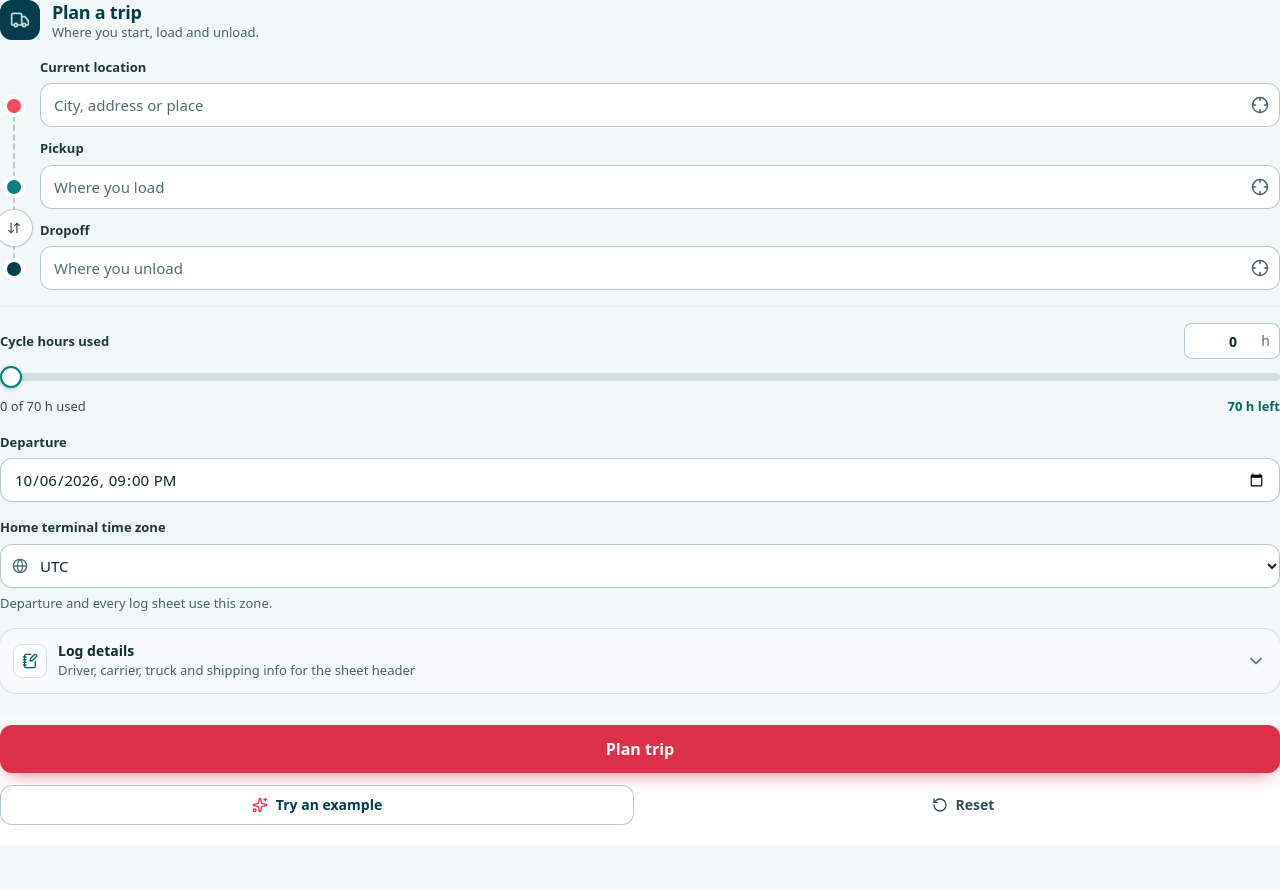
TripForm › validation › shows an inline message for each empty place and does not plan
Click the button with test id "btn-plan" at (640, 749), box [0, 725, 1279, 773]
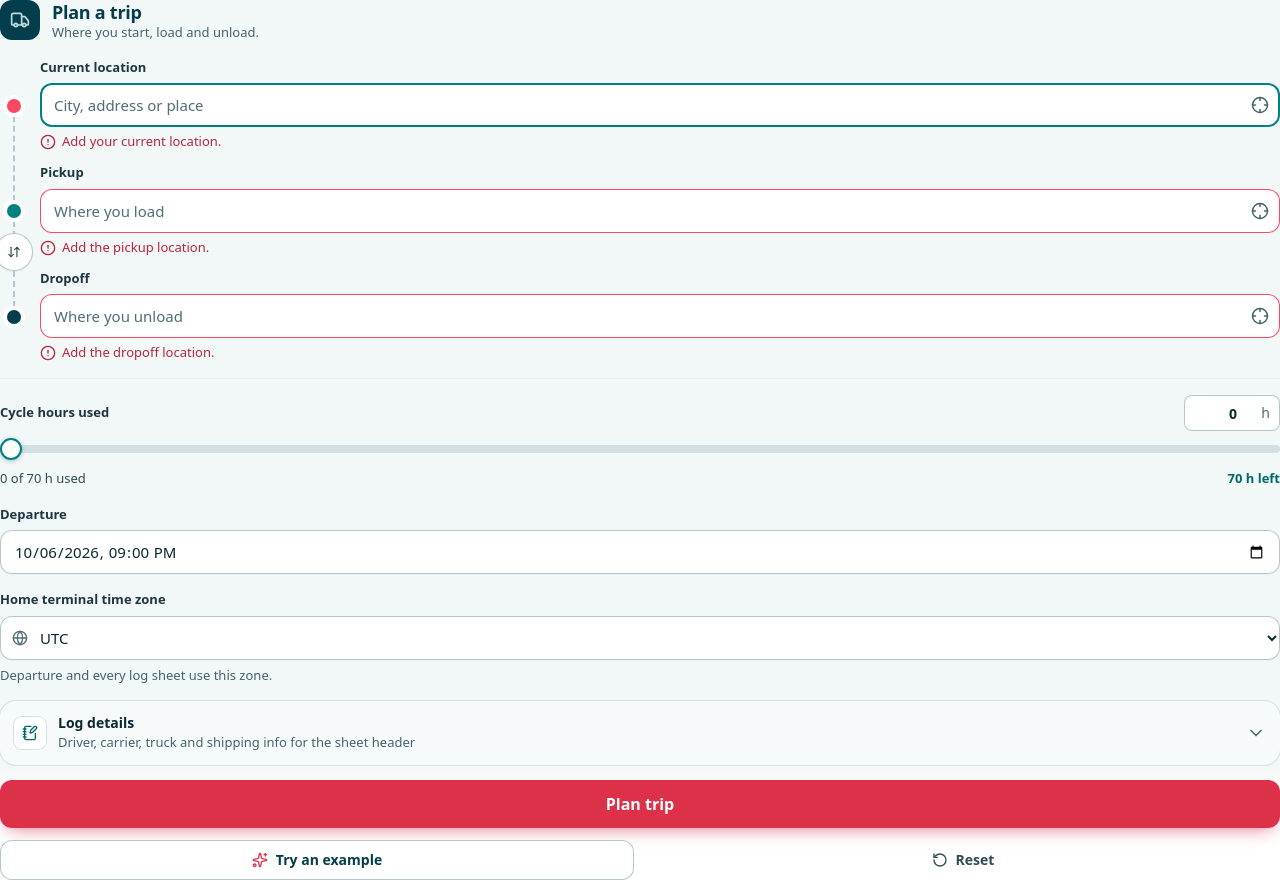
Expected: the message with test id "form-error-current" reads "Add your current location.", [62, 132, 221, 150]
Expected: the message with test id "form-error-pickup" reads "Add the pickup location.", [62, 238, 209, 256]
Expected: the message with test id "form-error-dropoff" reads "Add the dropoff location.", [62, 343, 214, 361]
